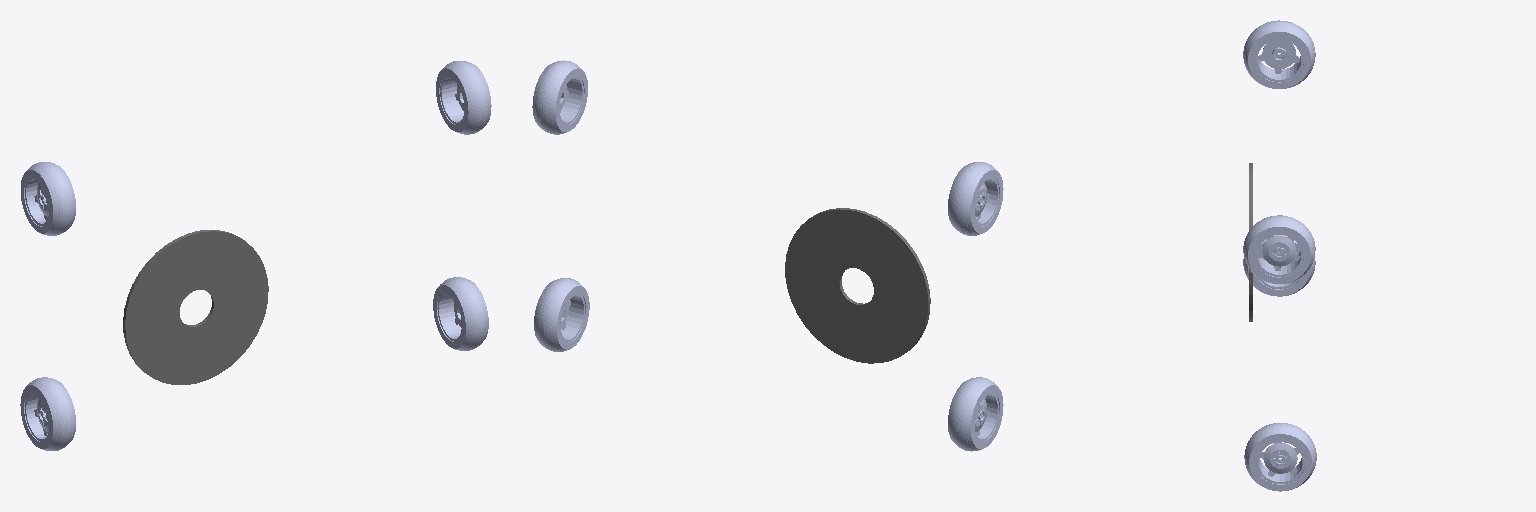
The robot description file, URDF, robot "URDF 2.0":
<?xml version="1.0" encoding="utf-8"?>
<!-- This URDF was automatically created by SolidWorks to URDF Exporter! Originally created by [author] ([email redacted]) 
     Commit Version: 1.6.0-4-g7f85cfe  Build Version: 1.6.7995.38578
     For more information, please see http://wiki.ros.org/sw_urdf_exporter -->
<robot
  name="URDF 2.0">
  <link
    name="base_link">
    <inertial>
      <origin
        xyz="-0.0597485302559153 0.0141254257572485 0.10587011505937"
        rpy="0 0 0" />
      <mass
        value="11.1719906867681" />
      <inertia
        ixx="0.04208810641191"
        ixy="-2.11662545192964E-06"
        ixz="1.07133003217122E-05"
        iyy="0.165332383660781"
        iyz="-0.000468163154422702"
        izz="0.148542200683734" />
    </inertial>
    <visual>
      <origin
        xyz="0 0 0"
        rpy="0 0 0" />
      <geometry>
        <mesh
          filename="package://URDF 2.0/meshes/base_link.STL" />
      </geometry>
      <material
        name="">
        <color
          rgba="0.792156862745098 0.819607843137255 0.933333333333333 1" />
      </material>
    </visual>
    <collision>
      <origin
        xyz="0 0 0"
        rpy="0 0 0" />
      <geometry>
        <mesh
          filename="package://URDF 2.0/meshes/base_link.STL" />
      </geometry>
    </collision>
  </link>
  <link
    name="FL">
    <inertial>
      <origin
        xyz="0.209204545115889 -0.0199994639772599 0.130181315529934"
        rpy="0 0 0" />
      <mass
        value="0.0950105358602906" />
      <inertia
        ixx="0.000107921195979308"
        ixy="6.90084692755131E-11"
        ixz="-7.93508495834911E-12"
        iyy="5.9825030214154E-05"
        iyz="-2.31745781019846E-10"
        izz="5.98197586023985E-05" />
    </inertial>
    <visual>
      <origin
        xyz="0 0 0"
        rpy="0 0 0" />
      <geometry>
        <mesh
          filename="package://URDF 2.0/meshes/FL.STL" />
      </geometry>
      <material
        name="">
        <color
          rgba="0.792156862745098 0.819607843137255 0.933333333333333 1" />
      </material>
    </visual>
    <collision>
      <origin
        xyz="0 0 0"
        rpy="0 0 0" />
      <geometry>
        <mesh
          filename="package://URDF 2.0/meshes/FL.STL" />
      </geometry>
    </collision>
  </link>
  <joint
    name="FL"
    type="revolute">
    <origin
      xyz="0 0 0"
      rpy="0 0 0" />
    <parent
      link="base_link" />
    <child
      link="FL" />
    <axis
      xyz="1 0 0" />
    <limit
      lower="0"
      upper="0"
      effort="0"
      velocity="0" />
  </joint>
  <link
    name="BL">
    <inertial>
      <origin
        xyz="0.206514702389292 -0.0186495835920506 -0.139796801281042"
        rpy="0 0 0" />
      <mass
        value="0.0950105281619692" />
      <inertia
        ixx="0.000107921195272557"
        ixy="-1.41316174122956E-11"
        ixz="-6.80267933696011E-11"
        iyy="5.98198502932497E-05"
        iyz="7.26268600667612E-10"
        izz="5.9824937792619E-05" />
    </inertial>
    <visual>
      <origin
        xyz="0 0 0"
        rpy="0 0 0" />
      <geometry>
        <mesh
          filename="package://URDF 2.0/meshes/BL.STL" />
      </geometry>
      <material
        name="">
        <color
          rgba="0.792156862745098 0.819607843137255 0.933333333333333 1" />
      </material>
    </visual>
    <collision>
      <origin
        xyz="0 0 0"
        rpy="0 0 0" />
      <geometry>
        <mesh
          filename="package://URDF 2.0/meshes/BL.STL" />
      </geometry>
    </collision>
  </link>
  <joint
    name="BL"
    type="revolute">
    <origin
      xyz="0 0 0"
      rpy="0 0 0" />
    <parent
      link="base_link" />
    <child
      link="BL" />
    <axis
      xyz="1 0 0" />
    <limit
      lower="0"
      upper="0"
      effort="0"
      velocity="0" />
  </joint>
  <link
    name="BR">
    <inertial>
      <origin
        xyz="-0.333125105824471 -0.0199996839453711 -0.138583628171085"
        rpy="0 0 0" />
      <mass
        value="0.0950105229485309" />
      <inertia
        ixx="0.000107921194814849"
        ixy="1.79197408116531E-11"
        ixz="6.71078563300854E-11"
        iyy="5.98202837463348E-05"
        iyz="1.59486346388987E-09"
        izz="5.98245038658382E-05" />
    </inertial>
    <visual>
      <origin
        xyz="0 0 0"
        rpy="0 0 0" />
      <geometry>
        <mesh
          filename="package://URDF 2.0/meshes/BR.STL" />
      </geometry>
      <material
        name="">
        <color
          rgba="0.792156862745098 0.819607843137255 0.933333333333333 1" />
      </material>
    </visual>
    <collision>
      <origin
        xyz="0 0 0"
        rpy="0 0 0" />
      <geometry>
        <mesh
          filename="package://URDF 2.0/meshes/BR.STL" />
      </geometry>
    </collision>
  </link>
  <joint
    name="BR"
    type="revolute">
    <origin
      xyz="0 0 0"
      rpy="0 0 0" />
    <parent
      link="base_link" />
    <child
      link="BR" />
    <axis
      xyz="-1 0 0" />
    <limit
      lower="0"
      upper="0"
      effort="0"
      velocity="0" />
  </joint>
  <link
    name="FR">
    <inertial>
      <origin
        xyz="-0.333105988919058 -0.0199992375133413 0.13018188589995"
        rpy="0 0 0" />
      <mass
        value="0.0950105229485304" />
      <inertia
        ixx="0.000107921194814849"
        ixy="-5.49662370674771E-11"
        ixz="4.24652135035259E-11"
        iyy="5.98227363492259E-05"
        iyz="-2.62270963349748E-09"
        izz="5.98220512629472E-05" />
    </inertial>
    <visual>
      <origin
        xyz="0 0 0"
        rpy="0 0 0" />
      <geometry>
        <mesh
          filename="package://URDF 2.0/meshes/FR.STL" />
      </geometry>
      <material
        name="">
        <color
          rgba="0.792156862745098 0.819607843137255 0.933333333333333 1" />
      </material>
    </visual>
    <collision>
      <origin
        xyz="0 0 0"
        rpy="0 0 0" />
      <geometry>
        <mesh
          filename="package://URDF 2.0/meshes/FR.STL" />
      </geometry>
    </collision>
  </link>
  <joint
    name="FR"
    type="revolute">
    <origin
      xyz="0 0 0"
      rpy="0 0 0" />
    <parent
      link="base_link" />
    <child
      link="FR" />
    <axis
      xyz="-1 0 0" />
    <limit
      lower="0"
      upper="0"
      effort="0"
      velocity="0" />
  </joint>
  <link
    name="Roller">
    <inertial>
      <origin
        xyz="-0.0618941629050707 0.0433404423844075 0.182555550312699"
        rpy="0 0 0" />
      <mass
        value="0.353139548782217" />
      <inertia
        ixx="0.000780768429716976"
        ixy="-3.50317335104689E-17"
        ixz="-6.78754223633182E-17"
        iyy="0.0044184454214629"
        iyz="6.47539226859637E-18"
        izz="0.00441844542146289" />
    </inertial>
    <visual>
      <origin
        xyz="0 0 0"
        rpy="0 0 0" />
      <geometry>
        <mesh
          filename="package://URDF 2.0/meshes/Roller.STL" />
      </geometry>
      <material
        name="">
        <color
          rgba="0.792156862745098 0.819607843137255 0.933333333333333 1" />
      </material>
    </visual>
    <collision>
      <origin
        xyz="0 0 0"
        rpy="0 0 0" />
      <geometry>
        <mesh
          filename="package://URDF 2.0/meshes/Roller.STL" />
      </geometry>
    </collision>
  </link>
  <joint
    name="Roller"
    type="revolute">
    <origin
      xyz="0 0 0"
      rpy="0 0 0" />
    <parent
      link="base_link" />
    <child
      link="Roller" />
    <axis
      xyz="-1 0 0" />
    <limit
      lower="0"
      upper="0"
      effort="0"
      velocity="0" />
  </joint>
  <link
    name="ML">
    <inertial>
      <origin
        xyz="0.0304189041753943 -0.0544952737102189 -0.0327592849498728"
        rpy="0 0 0" />
      <mass
        value="0.129817069335416" />
      <inertia
        ixx="0.000301885474933379"
        ixy="-4.59177480789963E-38"
        ixz="3.76203368301032E-36"
        iyy="0.000603230045411194"
        iyz="5.64688631502865E-22"
        izz="0.000301885474933379" />
    </inertial>
    <visual>
      <origin
        xyz="0 0 0"
        rpy="0 0 0" />
      <geometry>
        <mesh
          filename="package://URDF 2.0/meshes/ML.STL" />
      </geometry>
      <material
        name="">
        <color
          rgba="0.498039215686275 0.498039215686275 0.498039215686275 1" />
      </material>
    </visual>
    <collision>
      <origin
        xyz="0 0 0"
        rpy="0 0 0" />
      <geometry>
        <mesh
          filename="package://URDF 2.0/meshes/ML.STL" />
      </geometry>
    </collision>
  </link>
  <joint
    name="ML"
    type="revolute">
    <origin
      xyz="0 0 0"
      rpy="0 0 0" />
    <parent
      link="base_link" />
    <child
      link="ML" />
    <axis
      xyz="0 -1 0" />
    <limit
      lower="0"
      upper="0"
      effort="0"
      velocity="0" />
  </joint>
  <link
    name="MR">
    <inertial>
      <origin
        xyz="-0.159848061503955 -0.0535340956726708 -0.032114317310548"
        rpy="0 0 0" />
      <mass
        value="0.129817069335416" />
      <inertia
        ixx="0.000301885474933379"
        ixy="-6.60808010382816E-38"
        ixz="-1.58840351650758E-38"
        iyy="0.000603230045411194"
        iyz="5.64688631502866E-22"
        izz="0.000301885474933379" />
    </inertial>
    <visual>
      <origin
        xyz="0 0 0"
        rpy="0 0 0" />
      <geometry>
        <mesh
          filename="package://URDF 2.0/meshes/MR.STL" />
      </geometry>
      <material
        name="">
        <color
          rgba="0.498039215686275 0.498039215686275 0.498039215686275 1" />
      </material>
    </visual>
    <collision>
      <origin
        xyz="0 0 0"
        rpy="0 0 0" />
      <geometry>
        <mesh
          filename="package://URDF 2.0/meshes/MR.STL" />
      </geometry>
    </collision>
  </link>
  <joint
    name="MR"
    type="revolute">
    <origin
      xyz="0 0 0"
      rpy="0 0 0" />
    <parent
      link="base_link" />
    <child
      link="MR" />
    <axis
      xyz="0 -1 0" />
    <limit
      lower="0"
      upper="0"
      effort="0"
      velocity="0" />
  </joint>
</robot>

--- What the picture shows (computed from the rendered views, not written in the file) ---
3 views of the same robot in one strip: view 1: azimuth 30°, elevation 25°; view 2: azimuth 150°, elevation 25°; view 3: azimuth 270°, elevation 25° (orthographic).
Robot: URDF 2.0 — 8 links, 7 joints (7 revolute); root link base_link; default pose: every joint at zero.
Links seen in each view (by area): view 1: MR, BL, FL, BR, FR; view 2: MR, BL, BR, FL, FR; view 3: BL, FR, FL, BR.
Link boxes in pixels (<box>): MR: <box>123,230,268,384</box>; BL: <box>433,277,488,350</box>; FL: <box>436,61,491,134</box>; BR: <box>20,377,75,450</box>; FR: <box>21,162,75,235</box>; MR: <box>785,208,930,363</box>; BL: <box>534,278,589,351</box>; BR: <box>948,377,1003,451</box>; FL: <box>532,60,587,134</box>; FR: <box>948,162,1003,235</box>; BL: <box>1244,423,1316,491</box>; FR: <box>1243,20,1315,88</box>; FL: <box>1243,215,1315,283</box>; BR: <box>1243,235,1315,296</box>.
Size in the robot's own frame: 0.5721 by 0.0863 by 0.3549 metres.
5 mesh visuals loaded from 8 distinct referenced files (5 binary STL); not drawn: 3 (reference not matched to a file when rendering).